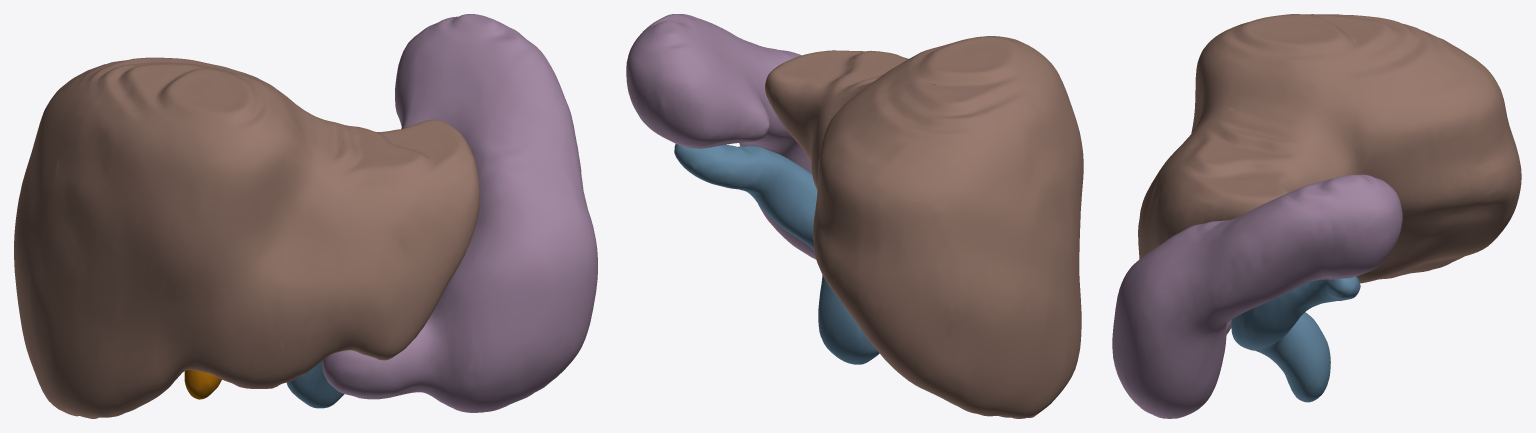
Rendered from organos.fbx.
The picture shows the model from 3 angles, left to right: view 1: azimuth 30°, elevation 25°; view 2: azimuth 150°, elevation 25°; view 3: azimuth 270°, elevation 25°; orthographic projection. The views are drawn at different scales.
Visible parts, largest first — view 1: organos; view 2: organos; view 3: organos.
Boxes of the visible parts, x1,y1,x2,y2 form: organos: (14,14,597,418); organos: (626,14,1083,418); organos: (1112,14,1521,418).
Bounding box in the file's own units: 23.04 × 16.42 × 19.21.
